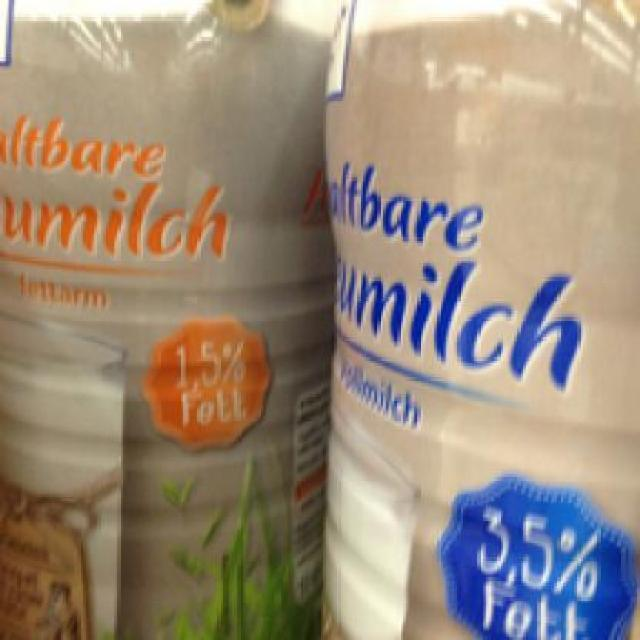Milk: (0, 2, 326, 638), (320, 0, 634, 637)
